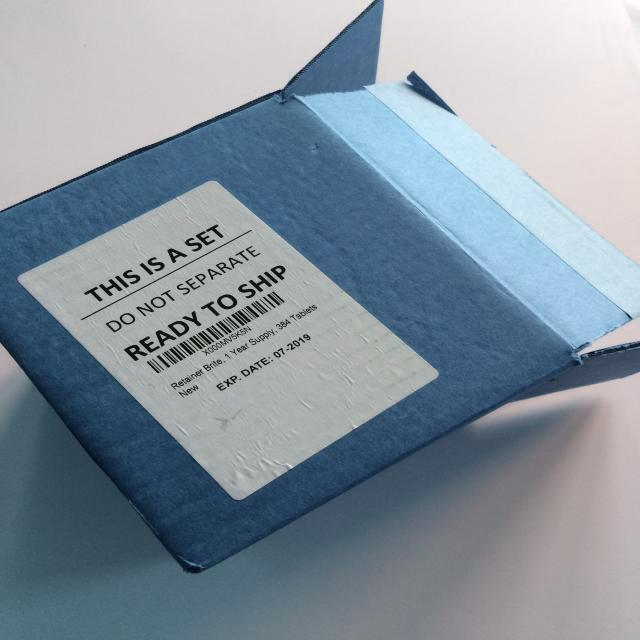cardboard: (0, 2, 640, 586)
